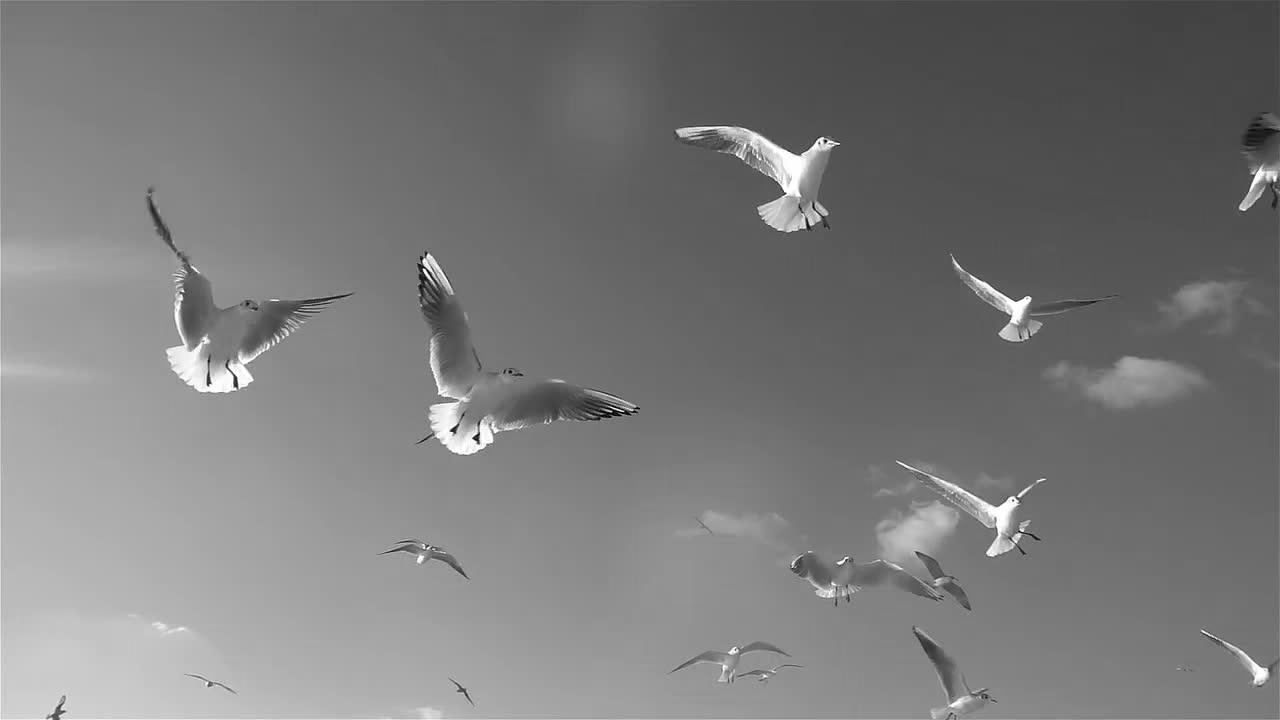bird: (116, 163, 364, 426), (406, 237, 652, 477), (667, 109, 866, 235), (937, 240, 1142, 351), (371, 524, 498, 589)
